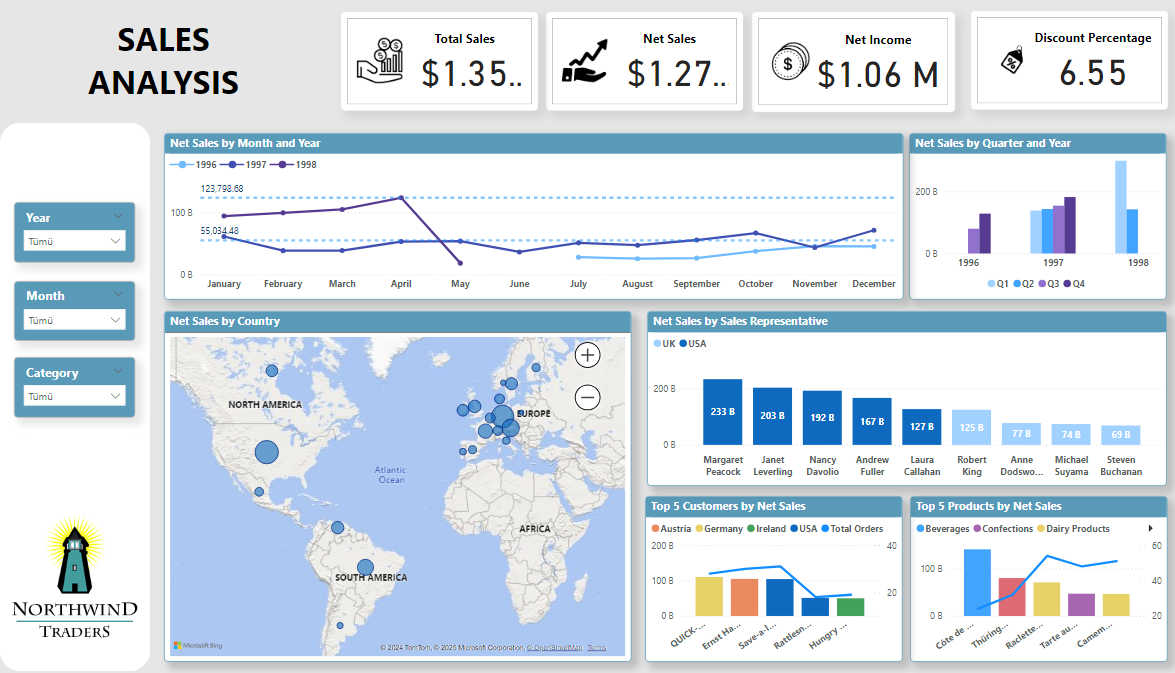

The dashboard page shown, as its layout file describes it:
{"tool":"powerbi","page":{"name":"Sales Analysis","canvas":[1550,900],"ordinal":1},"visuals":[{"type":"clusteredColumnChart","title":"Net Sales by Quarter and Year","fields":{"Category":["Quarterly-MonthlySales.year"],"Series":["Quarterly-MonthlySales.quarter"],"Y":["Sum(Quarterly-MonthlySales.net_sales)"]},"box":[1200,180,340,220],"z":0},{"type":"lineChart","title":"Net Sales by Month and Year","fields":{"Series":["Quarterly-MonthlySales.year"],"Category":["Quarterly-MonthlySales.MonthName"],"Y":["Sum(Quarterly-MonthlySales.net_sales)"]},"box":[216.7,179.4,976,219.7],"z":1000},{"type":"lineStackedColumnComboChart","title":"Top 5 Products by Net Sales","fields":{"Category":["Top5ProductSales.product"],"Series":["Top5ProductSales.category"],"Y2":["Sum(Top5ProductSales.total_orders)"],"Y":["Sum(Top5ProductSales.net_sales)"]},"box":[1200.5,657.9,340.3,219.3],"z":2000},{"type":"lineStackedColumnComboChart","title":"Top 5 Customers by Net Sales","fields":{"Category":["Top5CustomersSales.company_name"],"Series":["Top5CustomersSales.country"],"Y2":["Sum(Top5CustomersSales.total_orders)"],"Y":["Sum(Top5CustomersSales.net_sales)"]},"box":[851.6,657.9,340.3,219.3],"z":3000},{"type":"map","title":"Net Sales by Country","fields":{"Category":["SalesbyCountry.country"],"Size":["Sum(SalesbyCountry.net_sales)"]},"box":[216.5,414.4,616.6,462.8],"z":4000},{"type":"columnChart","title":"Net Sales by Sales Representative","fields":{"Category":["SalesbyEmployees.employee_name"],"Series":["SalesbyEmployees.office_country"],"Y":["Sum(SalesbyEmployees.net_sales)"]},"box":[854.4,414.4,686.4,230.7],"z":5000},{"type":"cardVisual","fields":{"Data":["Sum(NetIncome.net_income)"]},"box":[992.5,19.4,267.6,131.5],"z":6000},{"type":"textbox","box":[1.5,19.4,429,130],"z":7000},{"type":"cardVisual","fields":{"Data":["Sum(Discount Percentage.discount_percentage)"]},"box":[1281,17.9,260.1,130],"z":8000},{"type":"cardVisual","fields":{"Data":["Sum(NetSales.net_sales)"]},"box":[720.4,19.4,260,130],"z":9000},{"type":"cardVisual","fields":{"Data":["Sum(Total Sales.total_sales)"]},"box":[449.9,19.4,260,130],"z":10000},{"type":"shape","box":[0,166.3,197.9,723.2],"z":11000},{"type":"slicer","fields":{"Values":["DateTable.Year"]},"box":[18.5,270.5,159.7,80.5],"z":12000},{"type":"slicer","fields":{"Values":["DateTable.MonthName"]},"box":[18.5,374.8,159.7,79.2],"z":13000},{"type":"slicer","fields":{"Values":["public categories.category_name"]},"box":[18.5,475.1,159.7,80.5],"z":14000},{"type":"image","box":[2.6,677,191.3,175.5],"z":15000}]}

Visuals, with their boxes in screenshot pixels (x1, y1, x2, y2), scaled from the page's 1550x900 canvas onto the 1175x673 screenshot:
"Net Sales by Quarter and Year" clusteredColumnChart: 910/135/1167/299
"Net Sales by Month and Year" lineChart: 164/134/904/298
"Top 5 Products by Net Sales" lineStackedColumnComboChart: 910/492/1168/656
"Top 5 Customers by Net Sales" lineStackedColumnComboChart: 646/492/904/656
"Net Sales by Country" map: 164/310/632/656
"Net Sales by Sales Representative" columnChart: 648/310/1168/482
cardVisual - Sum(NetIncome.net_income): 752/15/955/113
textbox: 1/15/326/112
cardVisual - Sum(Discount Percentage.discount_percentage): 971/13/1168/111
cardVisual - Sum(NetSales.net_sales): 546/15/743/112
cardVisual - Sum(Total Sales.total_sales): 341/15/538/112
shape: 0/124/150/665
slicer - DateTable.Year: 14/202/135/262
slicer - DateTable.MonthName: 14/280/135/339
slicer - public categories.category_name: 14/355/135/415
image: 2/506/147/637
